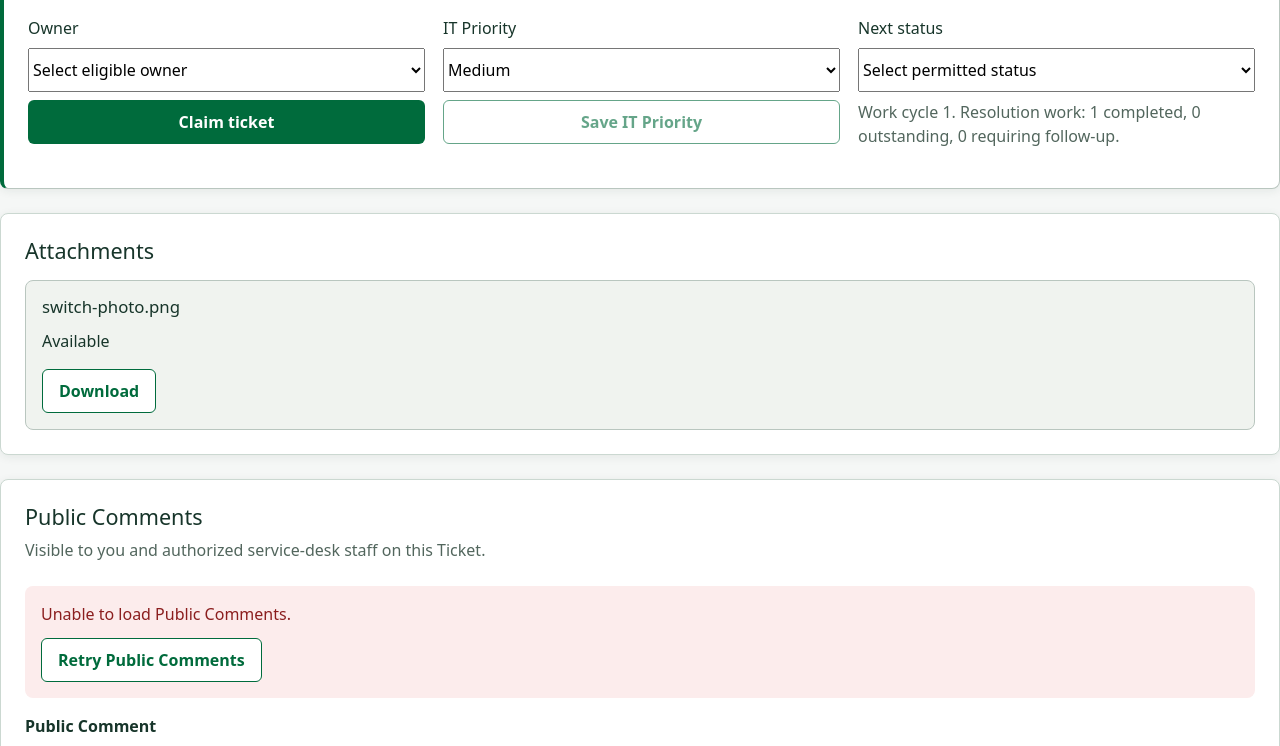
it: UI-04 Staff Ticket Detail operations › hosts Actions Taken and reports a failed Staff attachment download without an unhandled promise
(page scrolled)
Click the button with aria-label "Download switch-photo.png" at (99, 391), box [42, 369, 156, 413]
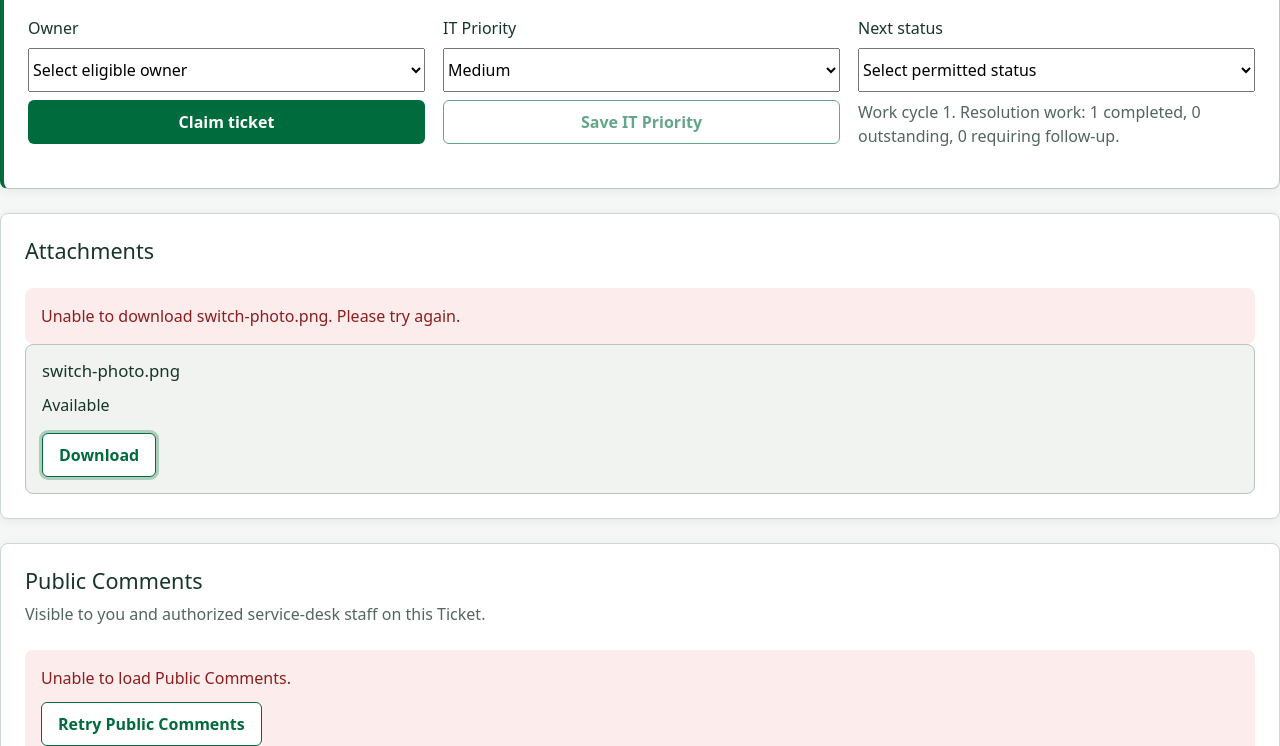
Result: the text "Unable to download switch-photo.png. Please try again." is shown at [25, 288, 1255, 344]
